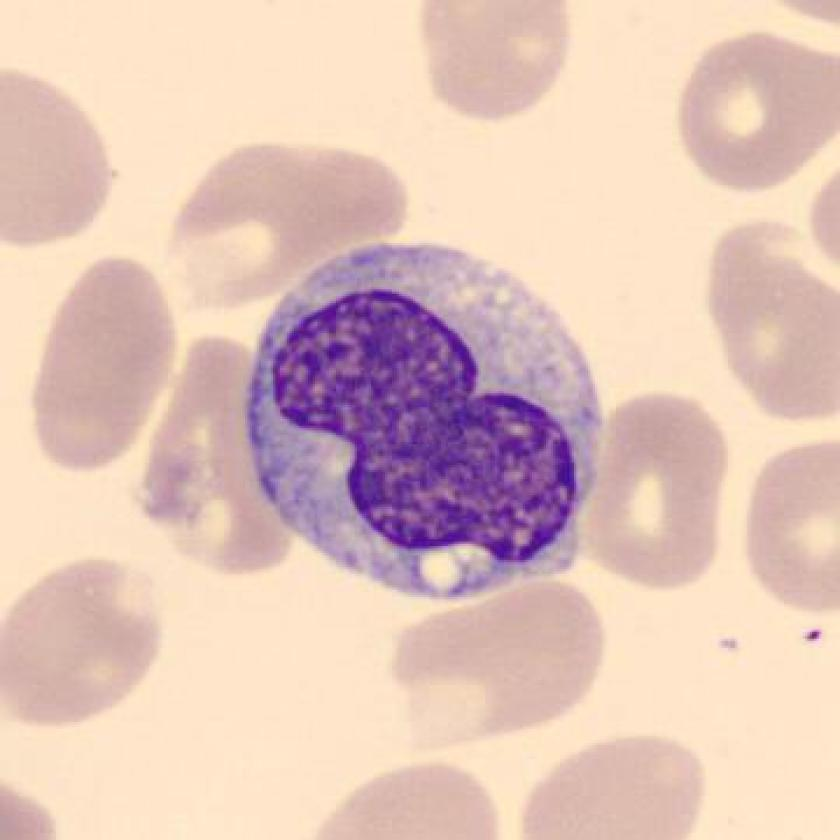monocyte: (237, 223, 622, 621)
